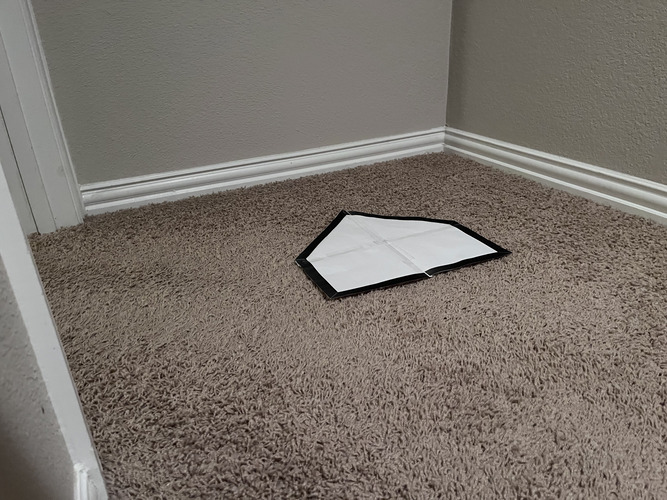homeplate: (297, 211, 512, 298)
